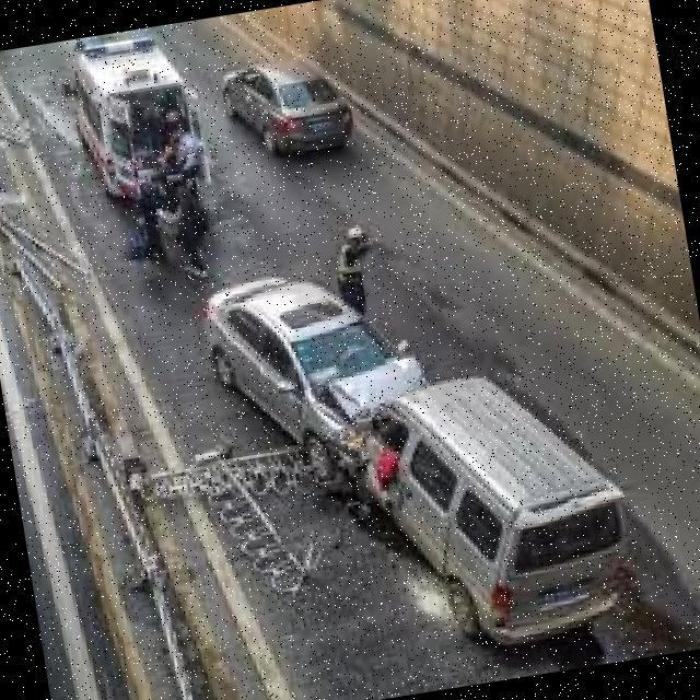Accident: (251, 332, 499, 517)
